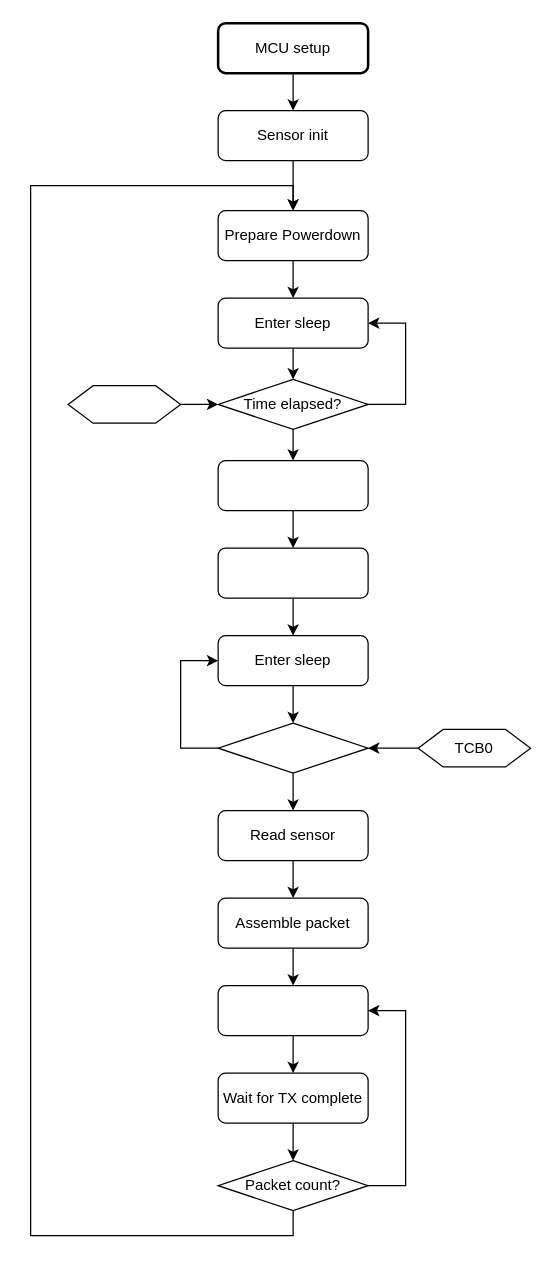
Some shapes in this 553 by 1268 pixel diagram are drawn without their labels. The centre of each missing label's shape, as x and y in pixels:
"Initiate TX" goes at point (292, 1010).
"Prepare Standby" goes at point (292, 572).
"RTC PIT" goes at point (124, 403).
"Sensor busy?" goes at point (292, 747).
"Trigger sensor read" goes at point (292, 485).
